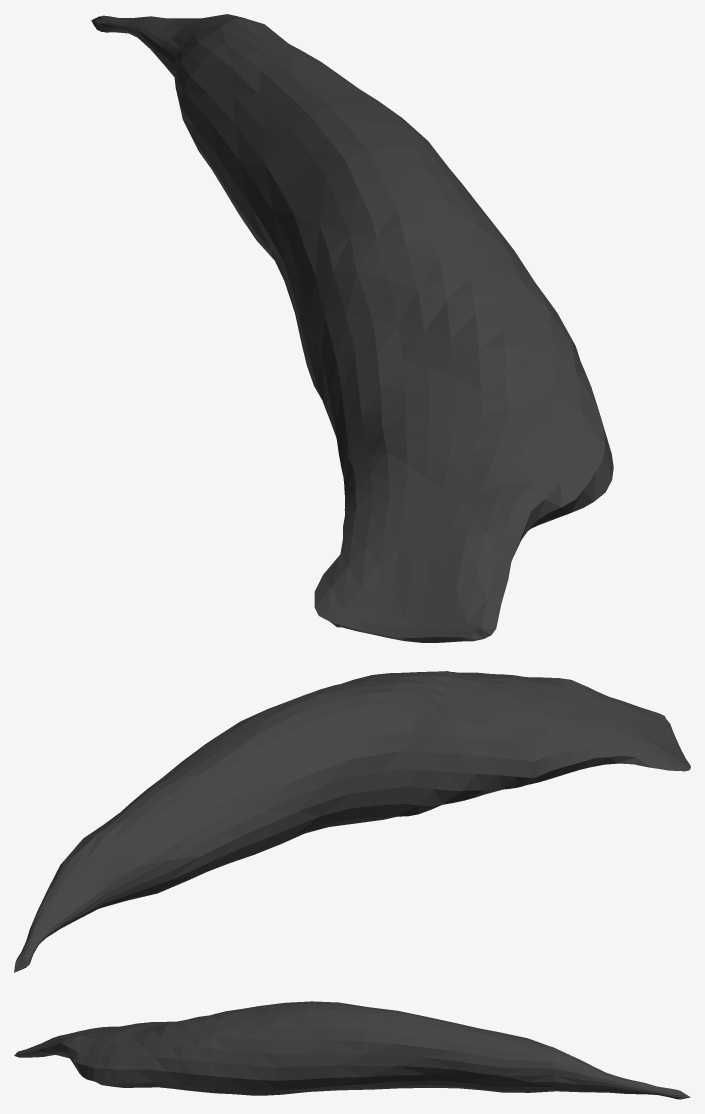
File: DeltoidMain_1.glb
The picture shows the model from 3 angles, top to bottom: view 1: azimuth 30°, elevation 25°; view 2: azimuth 150°, elevation 25°; view 3: azimuth 270°, elevation 25°; orthographic projection. The views are drawn at different scales.
Visible parts, largest first — view 1: DeltoidMain_1; view 2: DeltoidMain_1; view 3: DeltoidMain_1.
Boxes of the visible parts, x1=… form: DeltoidMain_1: x1=91, y1=14, x2=613, y2=642; DeltoidMain_1: x1=14, y1=671, x2=690, y2=972; DeltoidMain_1: x1=14, y1=1001, x2=690, y2=1099.
Size of the model in its own units: 0.0151 by 0.00733 by 0.0414.
1 material, 1 textured.
